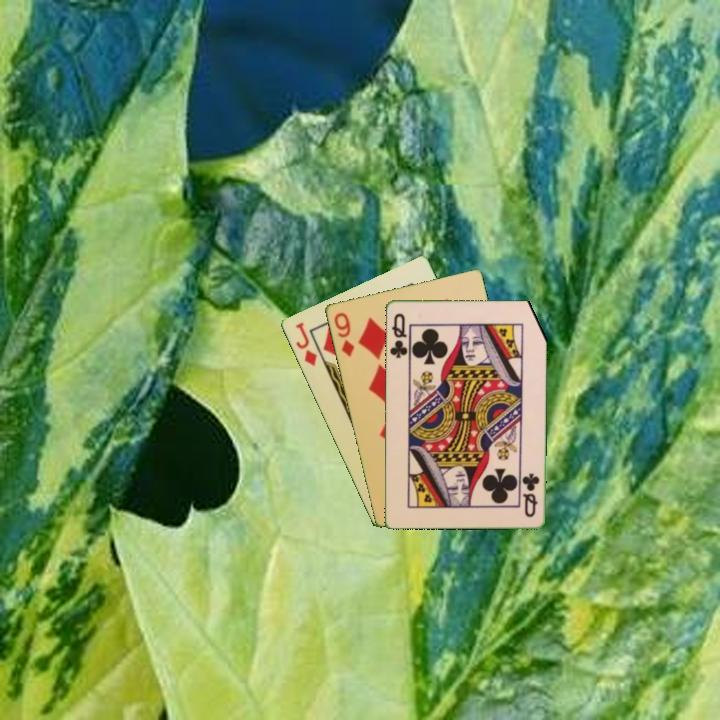9d: (330, 309, 357, 359)
Jd: (291, 318, 320, 369)
Qc: (386, 310, 410, 360), (519, 469, 542, 520)
